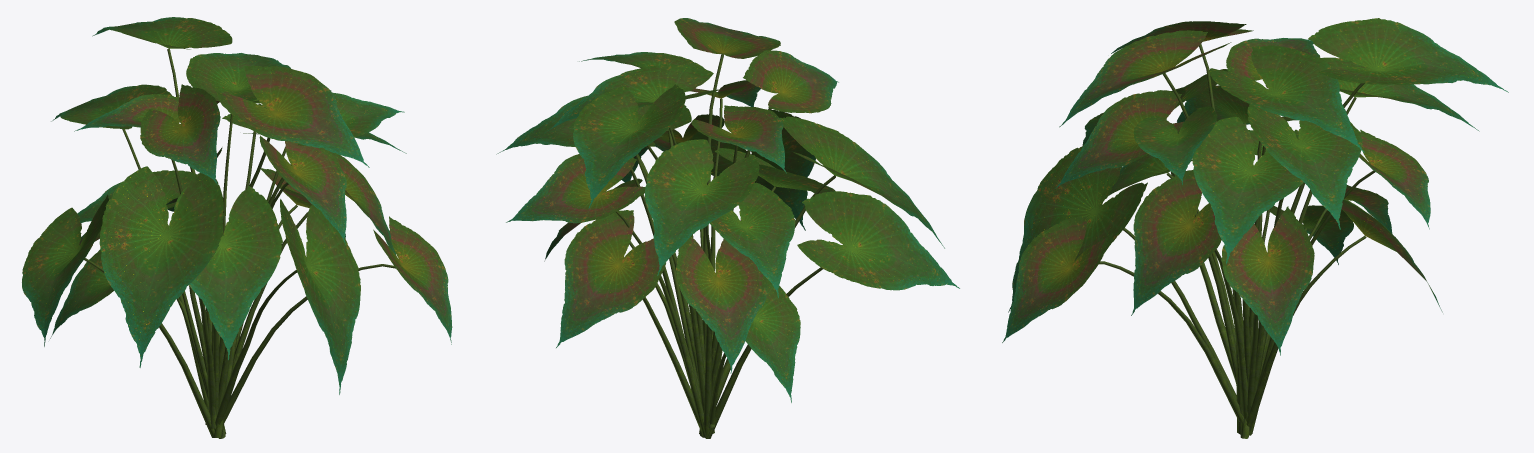
The model's file is PLant_9_L0.fbx.
The picture shows the model from 3 angles, left to right: view 1: azimuth 30°, elevation 25°; view 2: azimuth 150°, elevation 25°; view 3: azimuth 270°, elevation 25°; orthographic projection. The views are drawn at different scales.
Visible parts, largest first — view 1: polySurface3; view 2: polySurface3; view 3: polySurface3.
Boxes of the visible parts, x1,y1,x2,y2 form: polySurface3: [22, 17, 452, 438]; polySurface3: [496, 18, 959, 438]; polySurface3: [1002, 18, 1508, 438].
Size of the model in its own units: 225 by 201 by 233.
